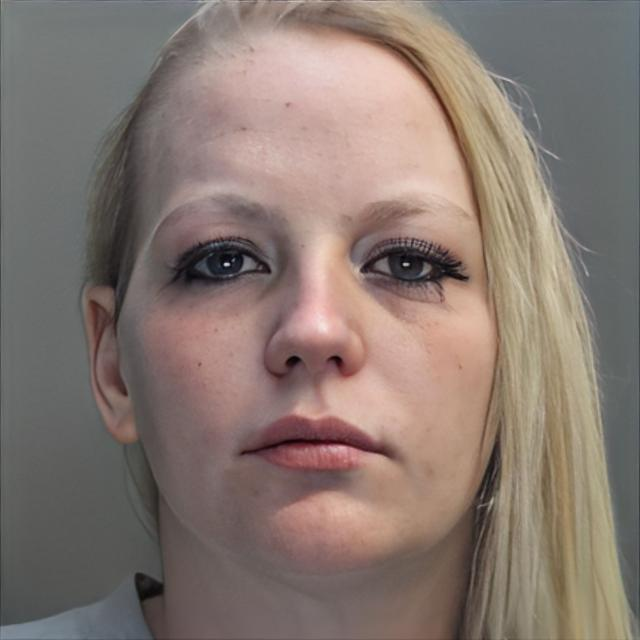sad: (127, 41, 502, 570)
